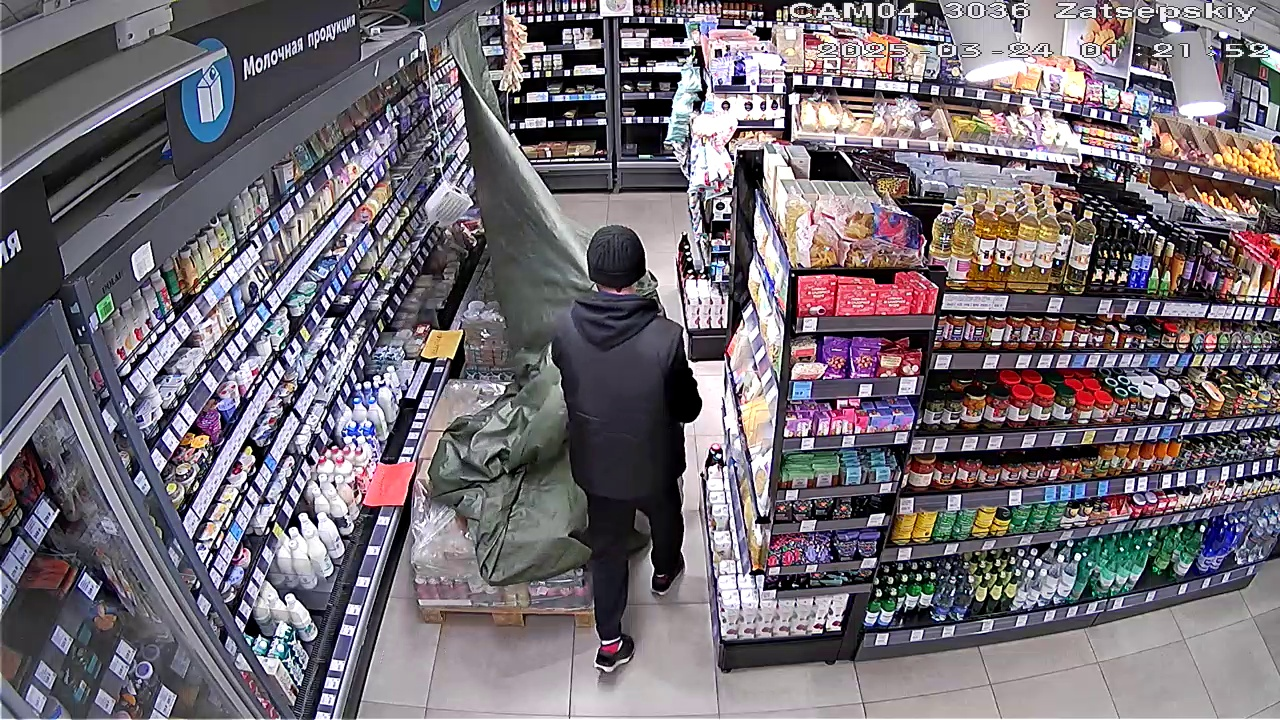Human: (553, 224, 690, 614), (453, 19, 576, 311)
